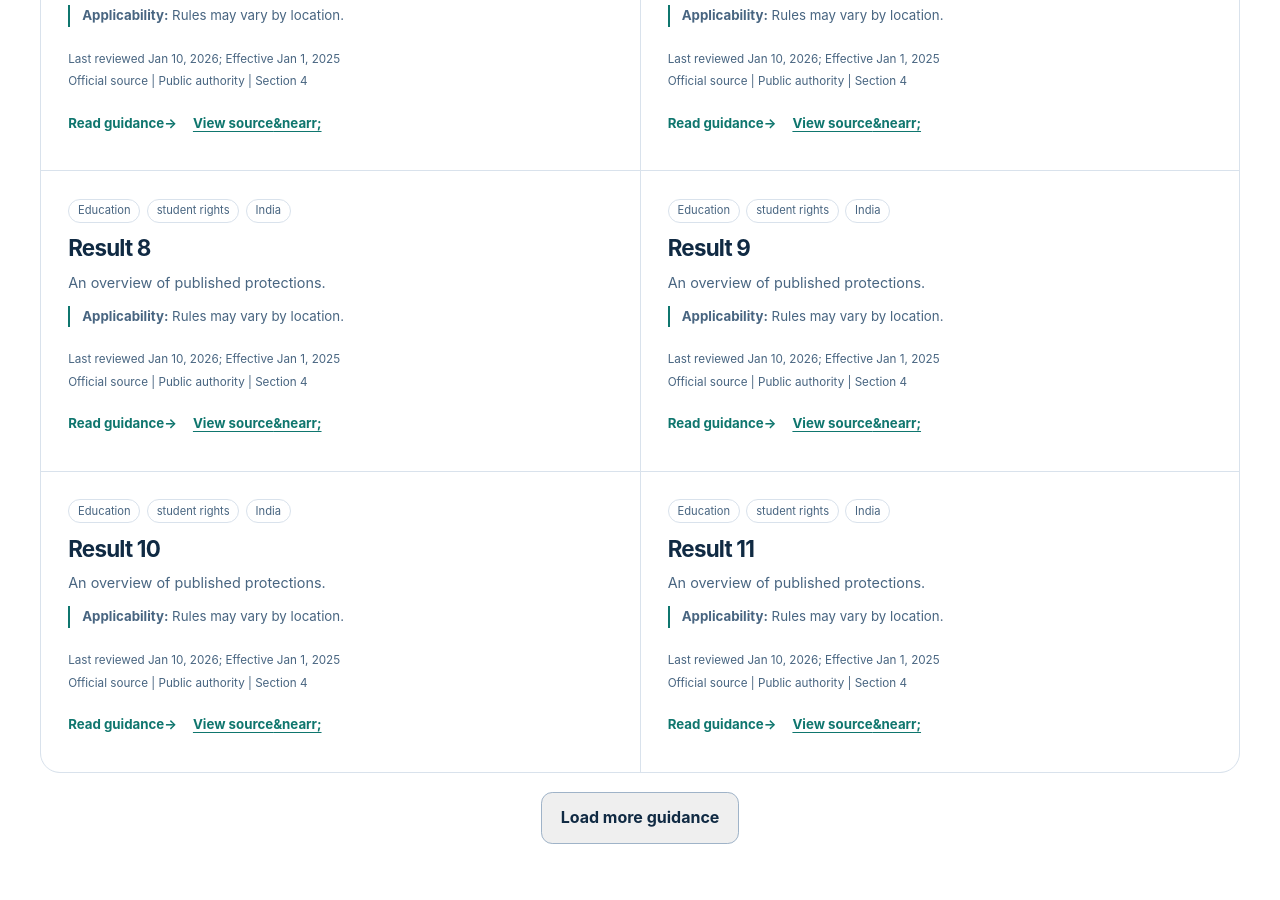
Test: Rights Explorer › loads the next result page using the backend offset and appends it
(page scrolled)
Click the button "Load more guidance" at (640, 818), box [541,792,739,844]
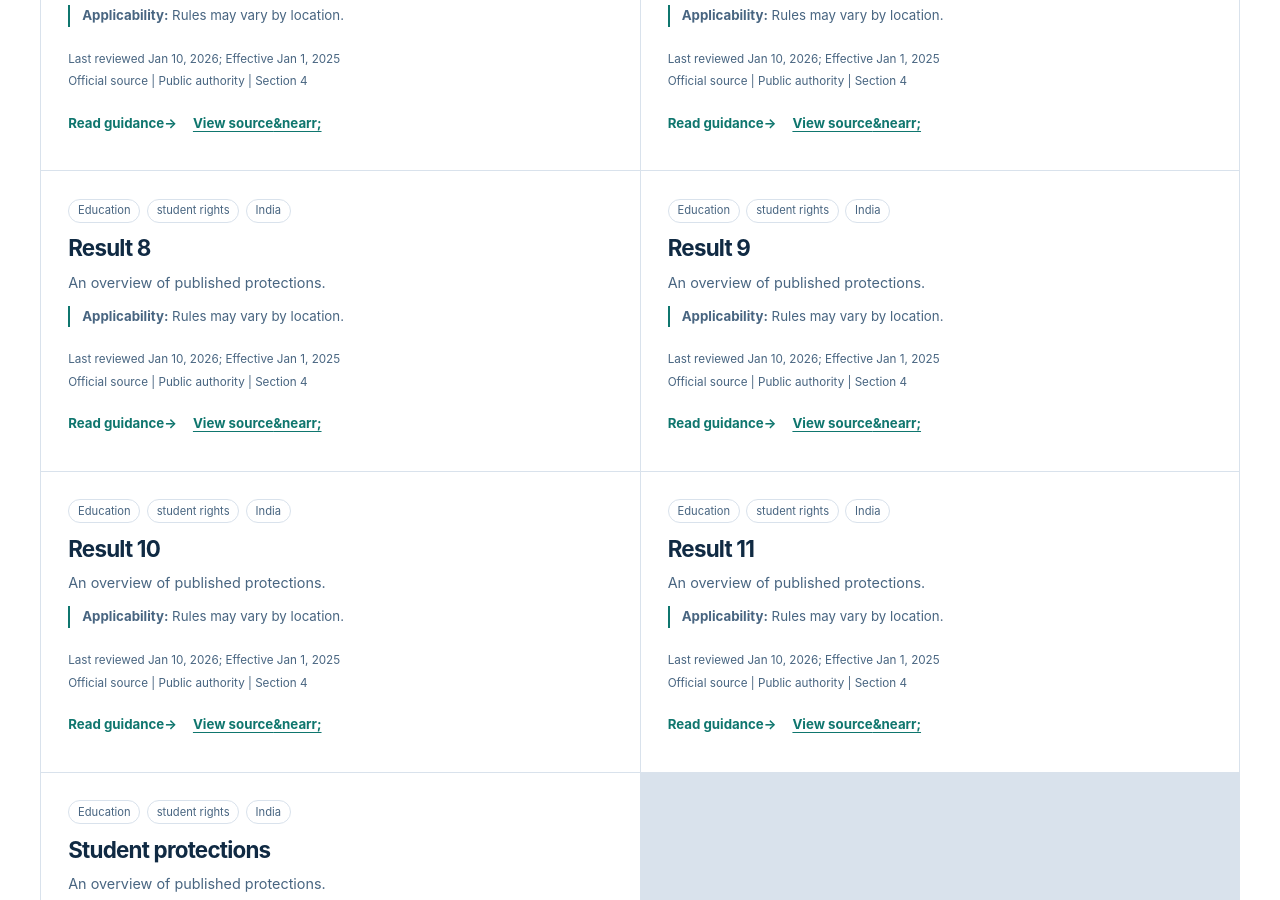
Expected: the heading "Student protections" is shown, [68,837,270,863]
